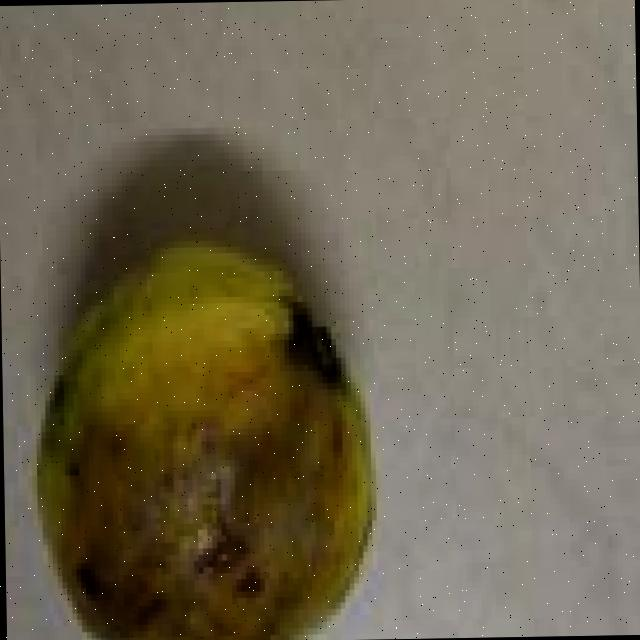Bad_Guava 0 day: (39, 243, 373, 640)
